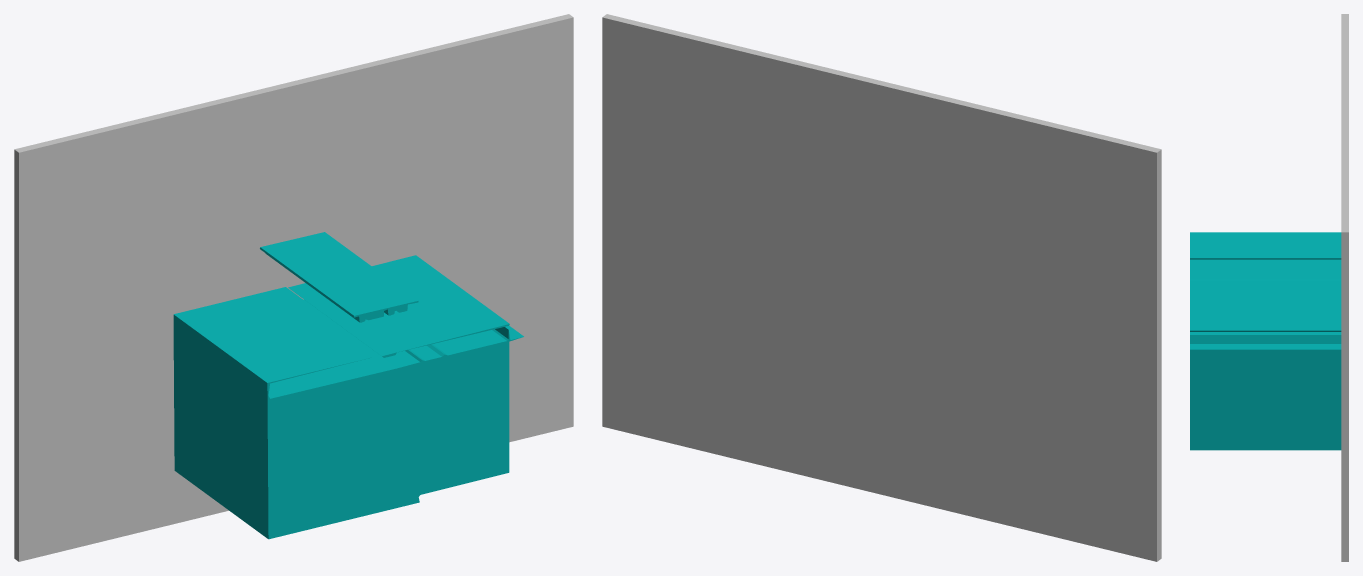
3 renders of one model, left to right at view 1: azimuth 30°, elevation 25°; view 2: azimuth 150°, elevation 25°; view 3: azimuth 270°, elevation 25°, orthographic. The views are drawn at different scales.
Parts seen in each view (by area): view 1: world; view 2: world; view 3: world.
Part boxes in pixels (x1,y1,x2,y2): world: [14, 14, 573, 561]; world: [602, 14, 1161, 561]; world: [1190, 14, 1348, 561].
Size of the model in its own units: 10.23 by 7.21 by 3.15.
